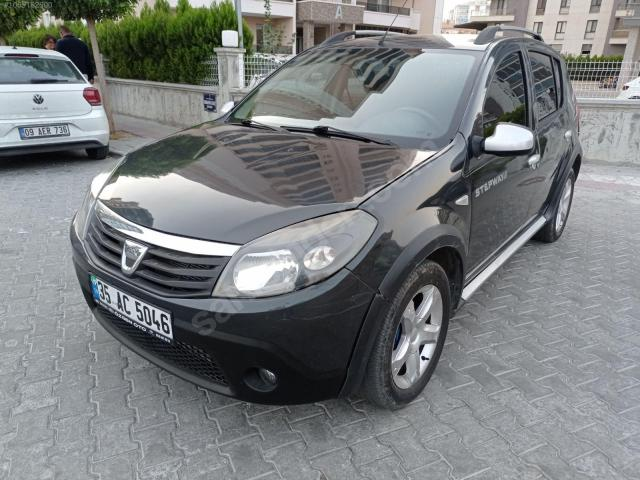plaka: (91, 277, 172, 342)
